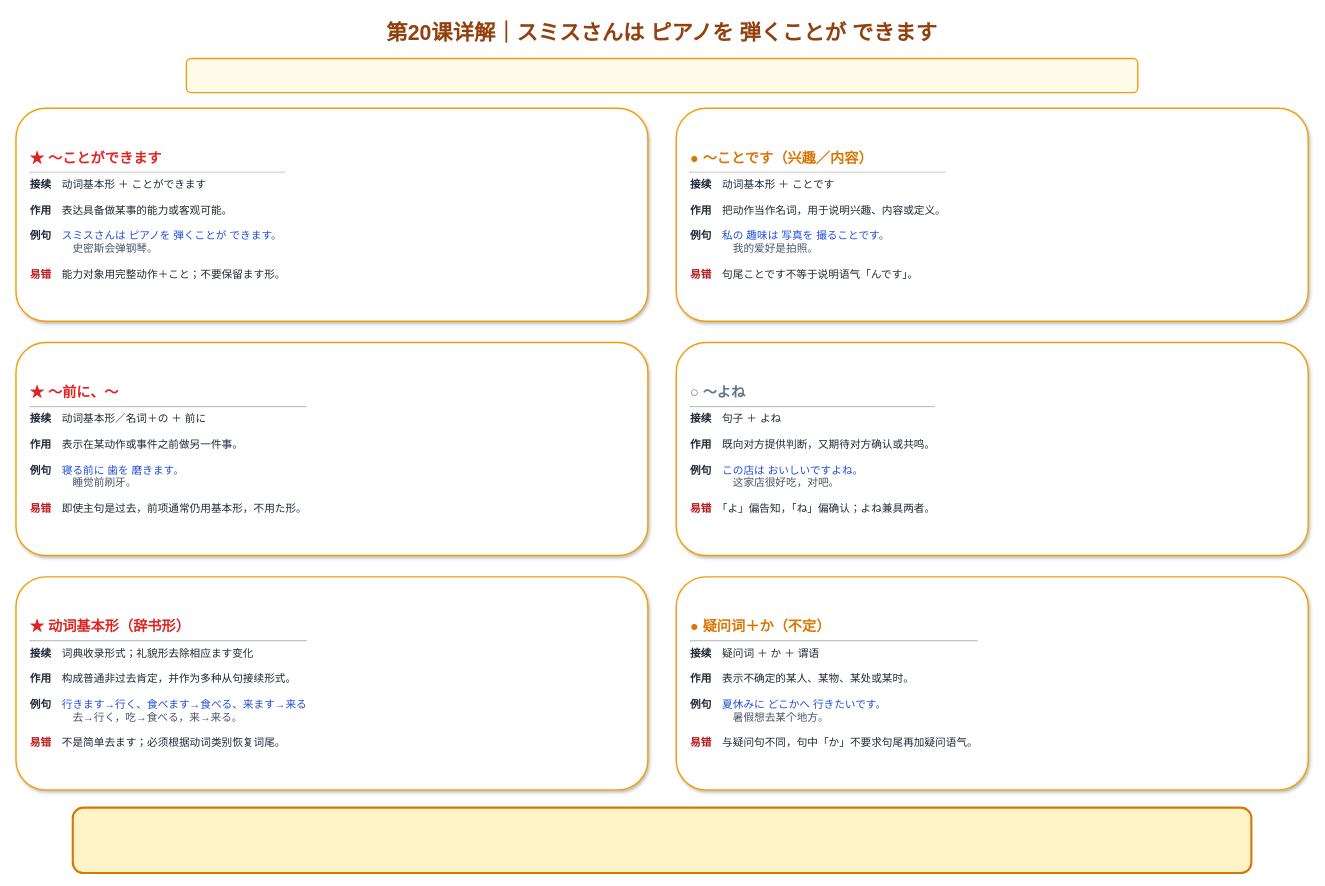
Image size: 1325x886. Some labels were removed from this diagram. The centre of each missing label's shape, as x and y in pixels:
本课目标：掌握动词基本形，并用「こと」把动作名词化以表达能力、兴趣和前后关系。: (661,75)
本课结构关系 基本形进入从句后可接こと、前に等；こと把动作整体当作名词处理。 最低掌握标准 能把礼貌形还原为辞书形，并用ことができます表达能力。: (661,840)
